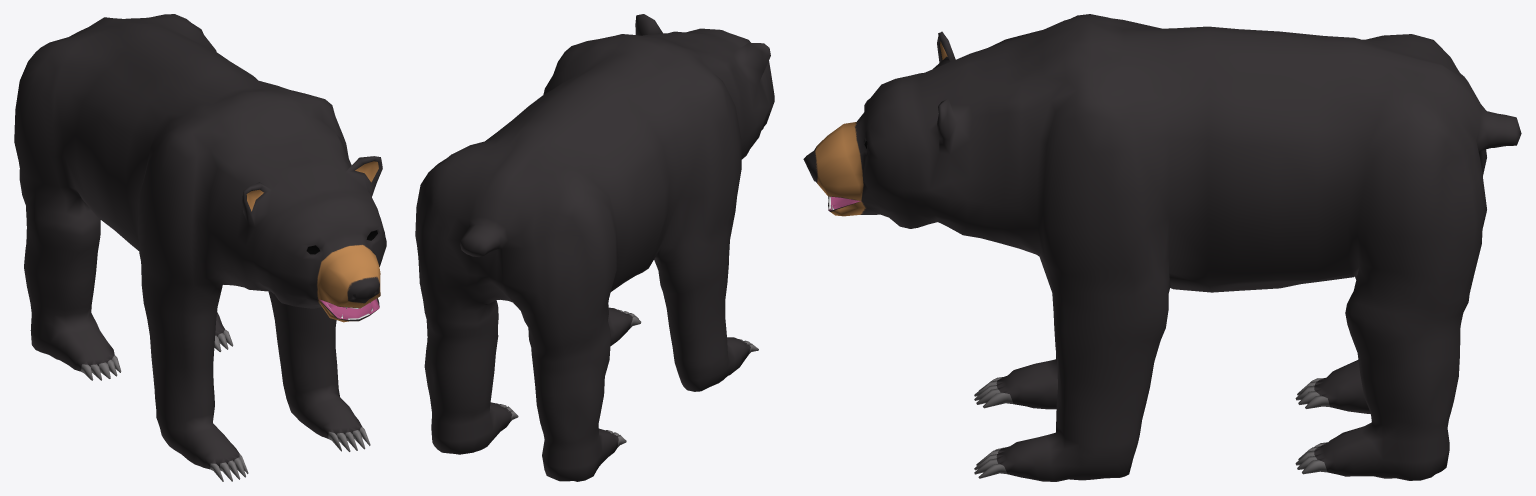
File: Bear.fbx
The picture shows the model from 3 angles, left to right: view 1: azimuth 30°, elevation 25°; view 2: azimuth 150°, elevation 25°; view 3: azimuth 270°, elevation 25°; orthographic projection. The views are drawn at different scales.
Parts seen in each view (by area): view 1: Bear001; view 2: Bear001; view 3: Bear001.
Part boxes in pixels (x1=…): Bear001: x1=14, y1=14, x2=386, y2=481; Bear001: x1=415, y1=14, x2=774, y2=481; Bear001: x1=803, y1=14, x2=1521, y2=481.
Size of the model in its own units: 31.5 by 51.67 by 82.39.
